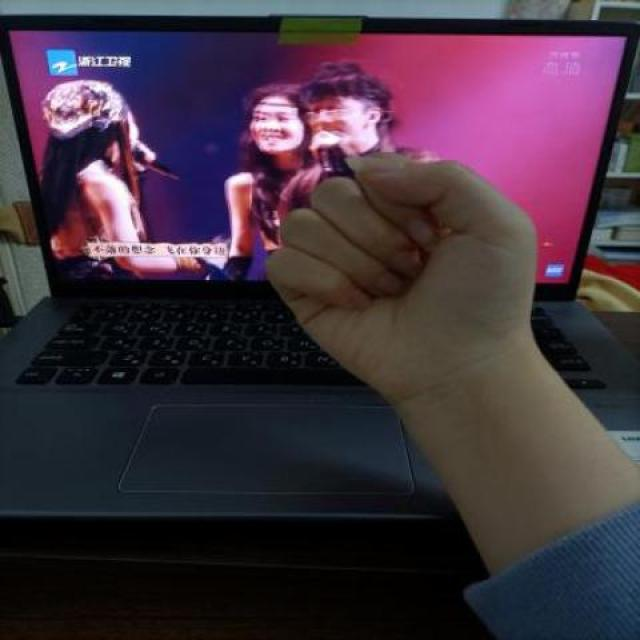fist: (256, 147, 559, 410)
